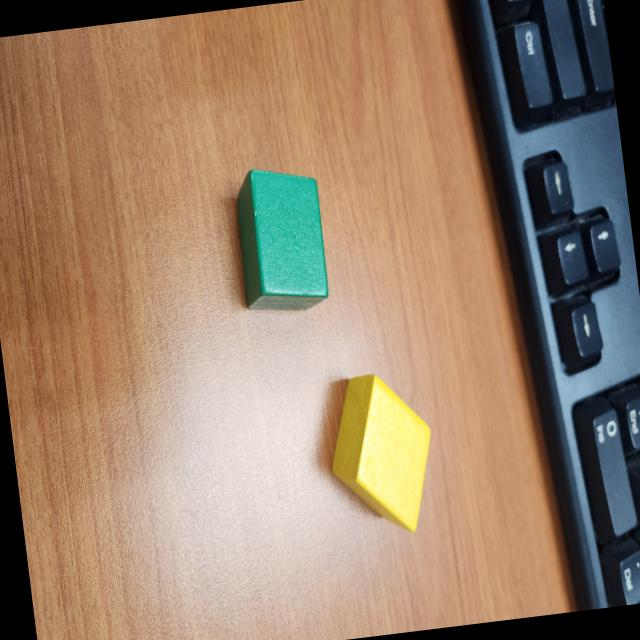green: (230, 160, 332, 316)
yellow: (319, 368, 444, 545)
